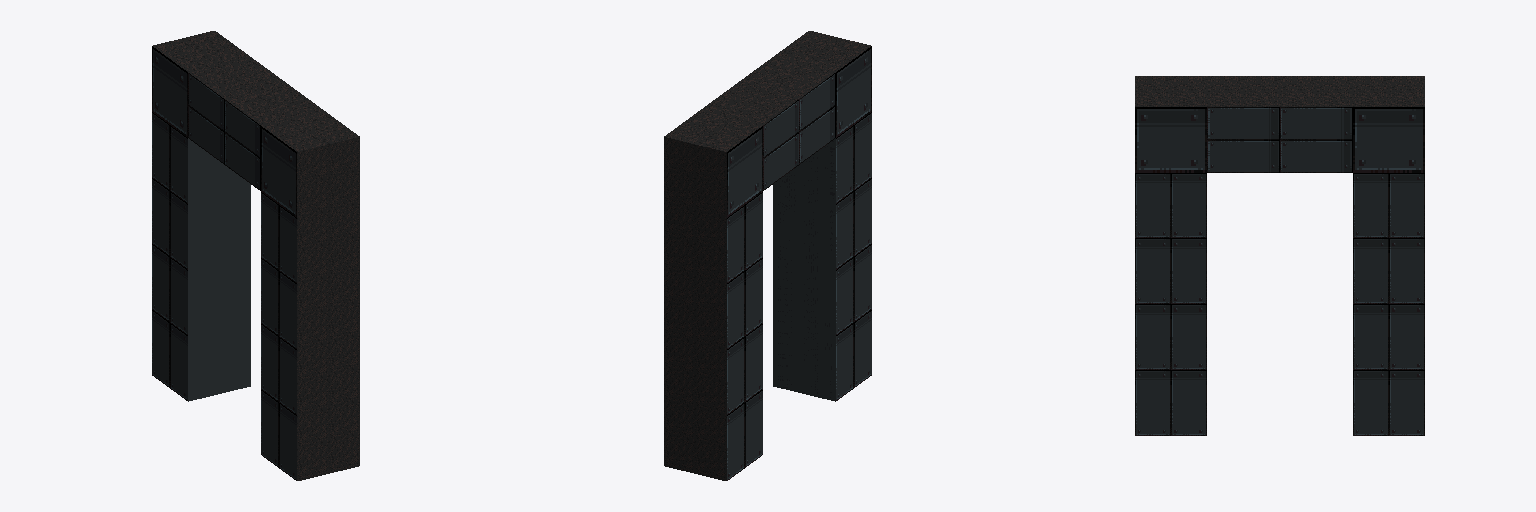
3 renders of one model, left to right at view 1: azimuth 30°, elevation 25°; view 2: azimuth 150°, elevation 25°; view 3: azimuth 270°, elevation 25°, orthographic.
Parts seen in each view (by area): view 1: DoorwayA1; view 2: DoorwayA1; view 3: DoorwayA1.
Part boxes in pixels (x1,y1,x2,y2): DoorwayA1: (152, 31, 359, 480); DoorwayA1: (664, 31, 871, 480); DoorwayA1: (1135, 76, 1424, 435).
Size of the model in its own units: 1 by 5 by 4.
Materials: 5 (5 with a texture image).